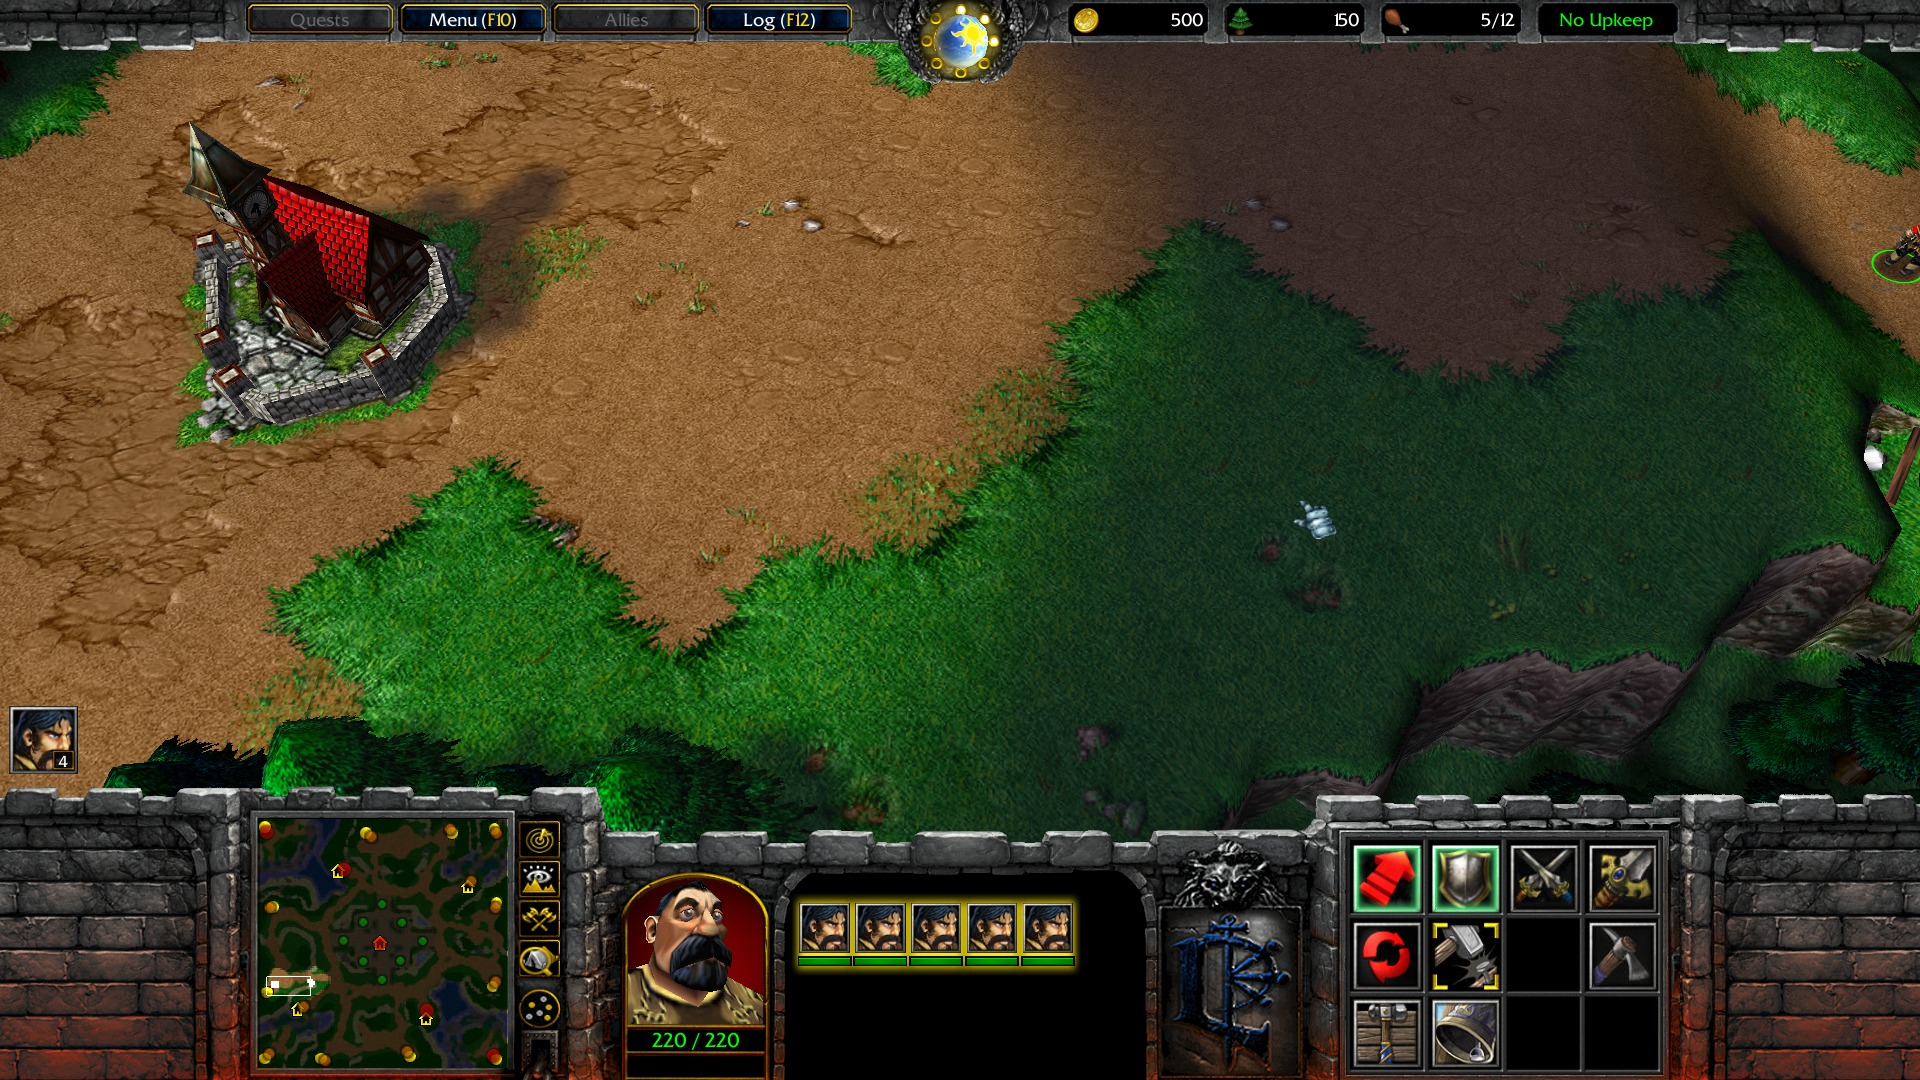Townhall: (175, 116, 480, 444)
